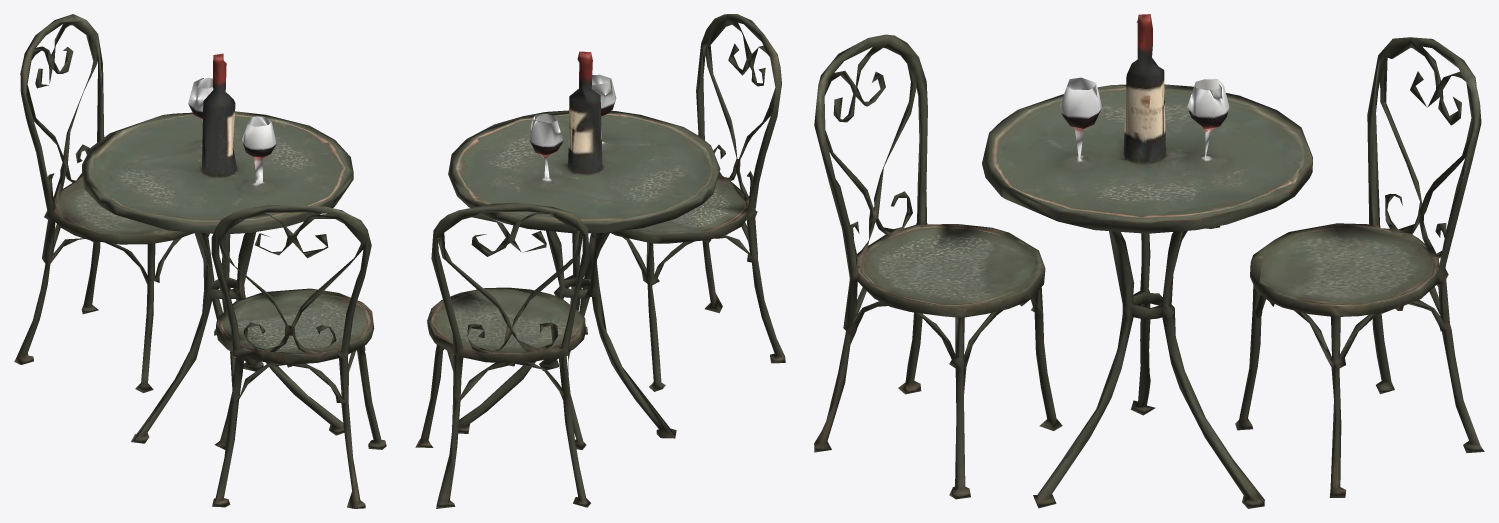
File: prop_cafe_set.glb
3 views of the same model, side by side, from view 1: azimuth 30°, elevation 25°; view 2: azimuth 150°, elevation 25°; view 3: azimuth 270°, elevation 25° (orthographic). The views are drawn at different scales.
Parts seen in each view (by area): view 1: tripo_node_03ed0015-8610-4079-bea7-9e2451fa8c6d; view 2: tripo_node_03ed0015-8610-4079-bea7-9e2451fa8c6d; view 3: tripo_node_03ed0015-8610-4079-bea7-9e2451fa8c6d.
Boxes of the visible parts, x1,y1,x2,y2 form: tripo_node_03ed0015-8610-4079-bea7-9e2451fa8c6d: (14, 14, 386, 508); tripo_node_03ed0015-8610-4079-bea7-9e2451fa8c6d: (415, 14, 785, 508); tripo_node_03ed0015-8610-4079-bea7-9e2451fa8c6d: (814, 14, 1484, 508).
Size of the model in its own units: 0.4906 by 0.7268 by 0.9998.
Materials: 1 (1 with a texture image).
